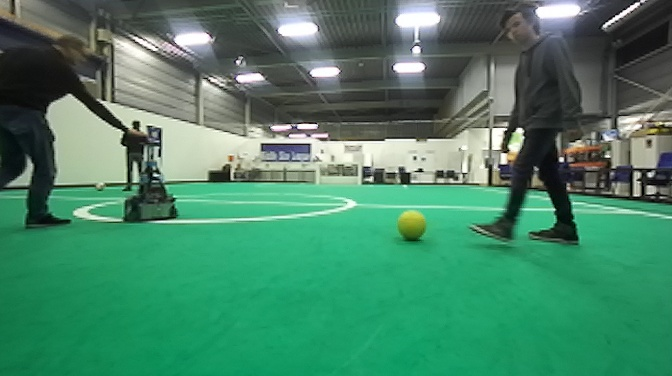ball: (394, 206, 431, 247), (93, 180, 109, 194)
goal: (314, 159, 363, 188)
goalpost: (314, 162, 322, 188), (357, 160, 363, 188)
human: (461, 4, 584, 249), (1, 28, 150, 228), (120, 116, 154, 193)
robot: (119, 142, 180, 225)
